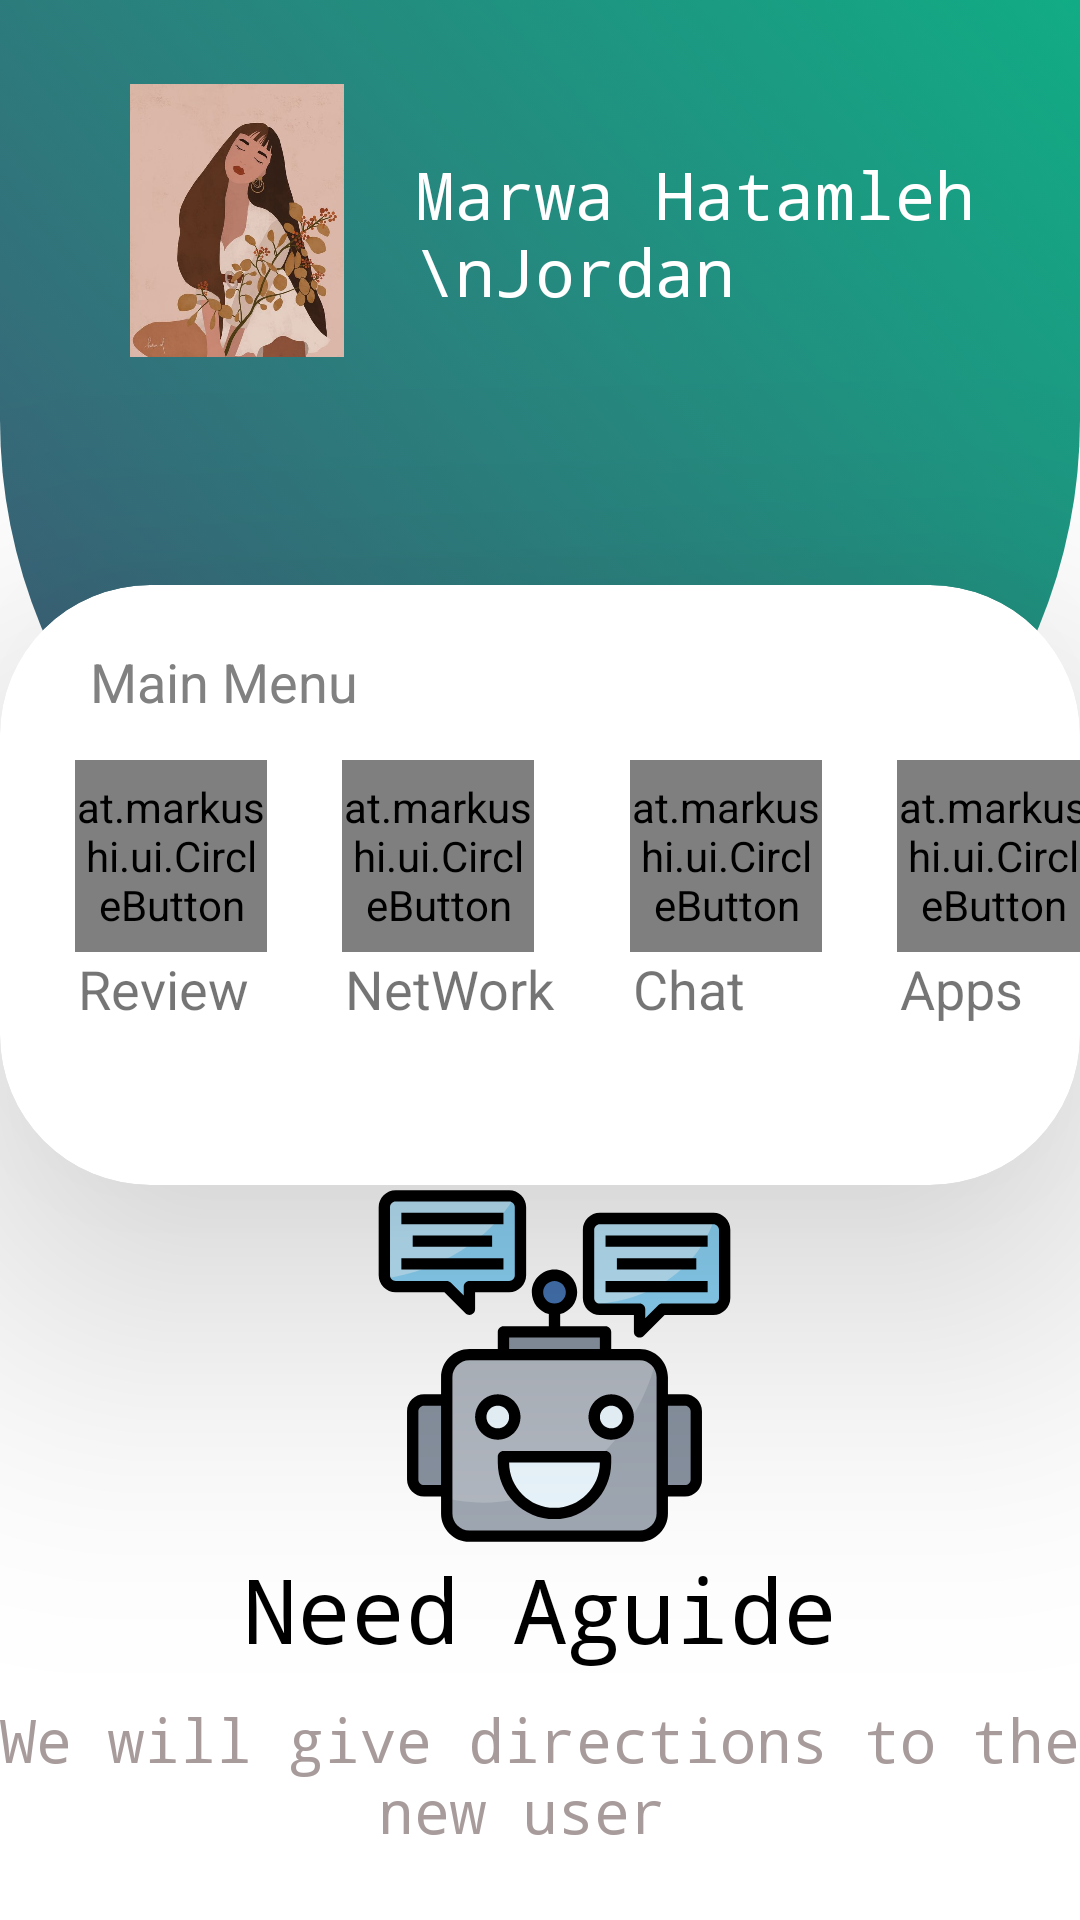

Screen size 1080px x 1920px. Icon name, then its center in pixels as (x=x, y=y):
robotic: (x=554, y=1405)
